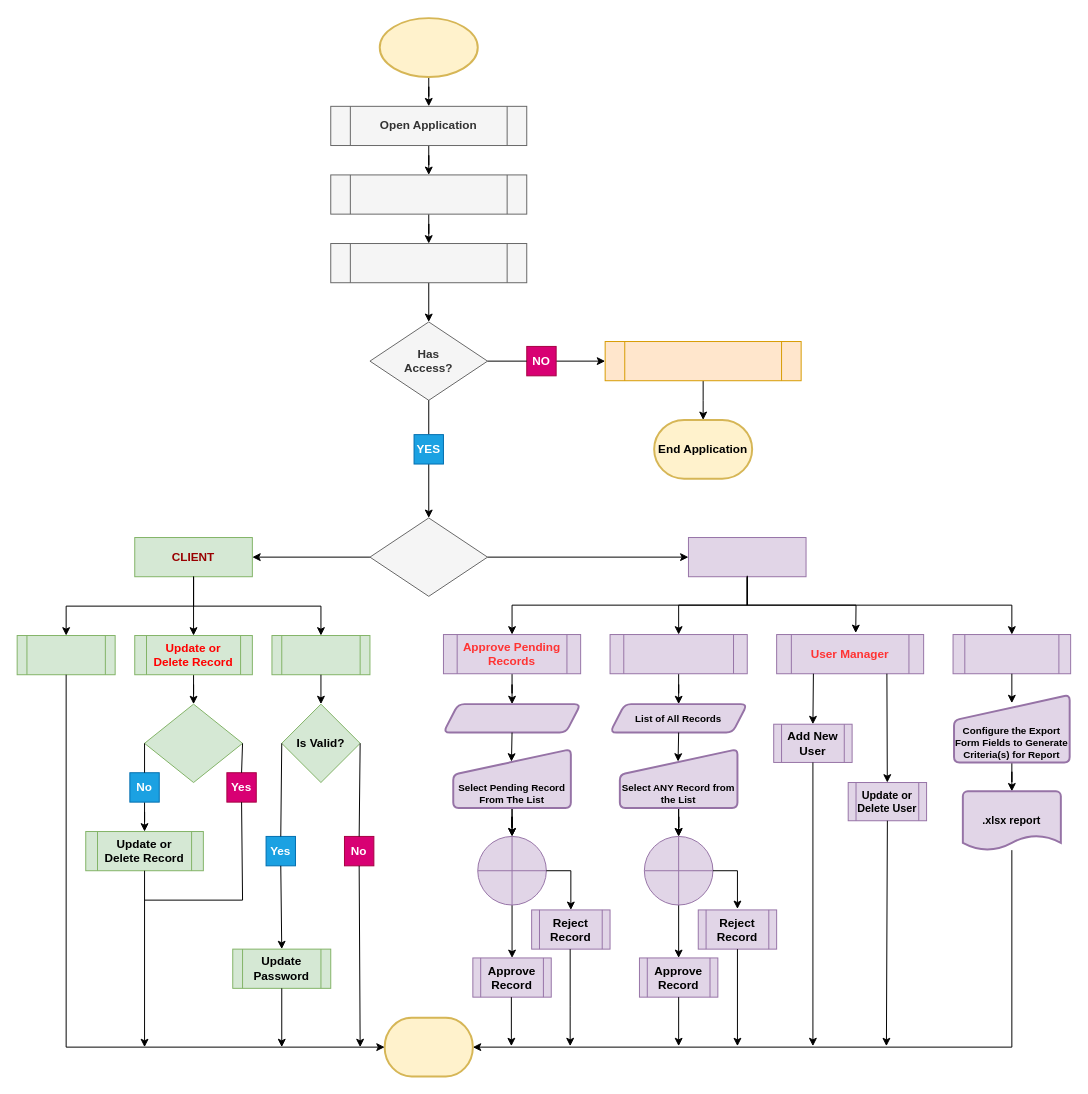
The diagram is 1088 pixels wide and 1094 high, and some of its shapes have lost their labels. Here are the shapes that lost their labels. From the top down, the centre of each, then its label:
At (x=428, y=47): "START".
At (x=428, y=194): "Open Form".
At (x=428, y=263): "Prompt for Login".
At (x=702, y=361): "Notify Manager".
At (x=428, y=556): "User Is".
At (x=746, y=557): "APPROVER".
At (x=65, y=655): "Add New Record".
At (x=320, y=655): "Change Password".
At (x=678, y=654): "Change Status of Previous Records".
At (x=1011, y=654): "Export Manager".
At (x=511, y=718): "List of Pending Records".
At (x=193, y=743): "Is Record Approved?".
At (x=428, y=1046): "End".
